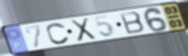5: (93, 15, 117, 38)
6: (142, 6, 169, 33)
7: (23, 24, 43, 49)
B: (118, 10, 146, 36)
C: (46, 22, 71, 46)
X: (69, 16, 98, 43)
